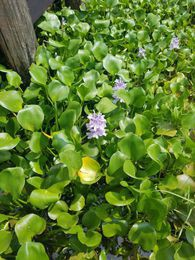water_hyacinth: (0, 68, 195, 260)
